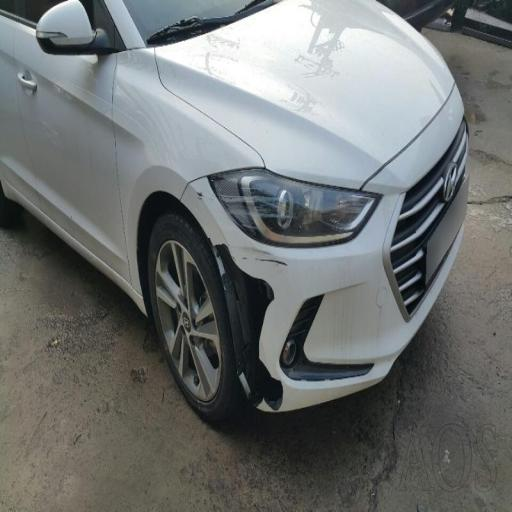broken: (215, 210, 303, 442)
scratch: (236, 210, 308, 292)
